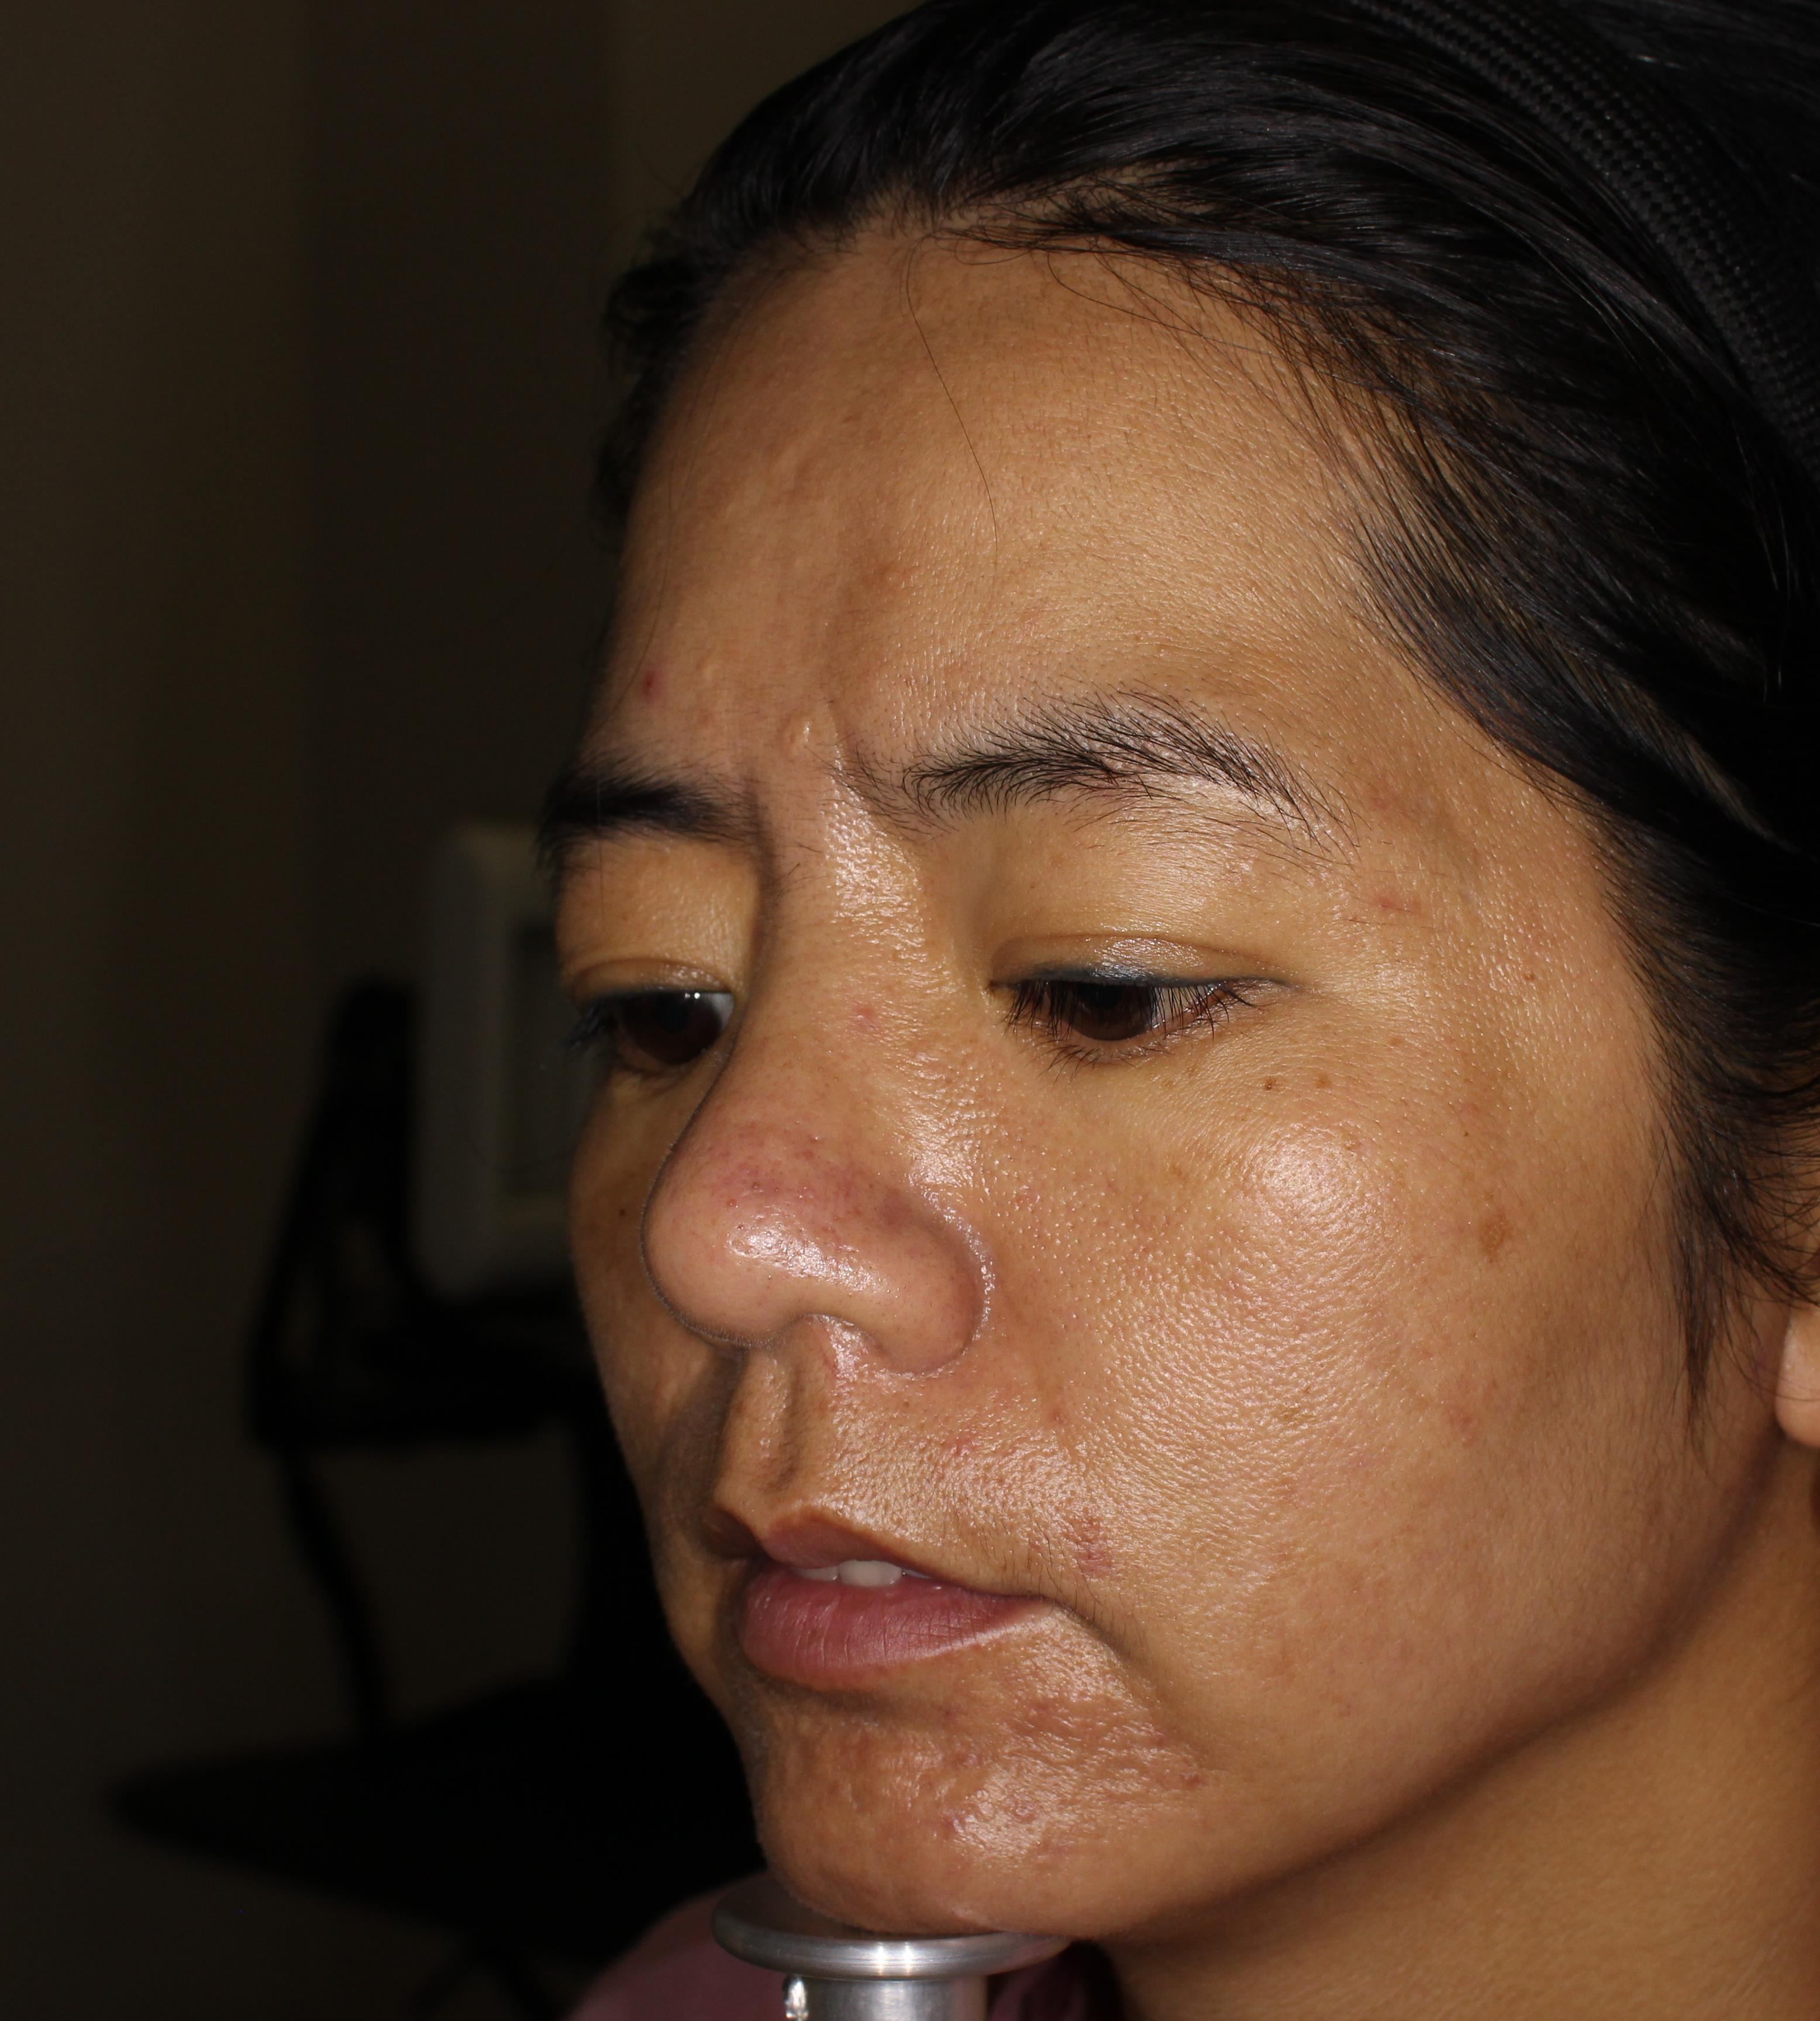fore: (611, 636, 696, 743)
